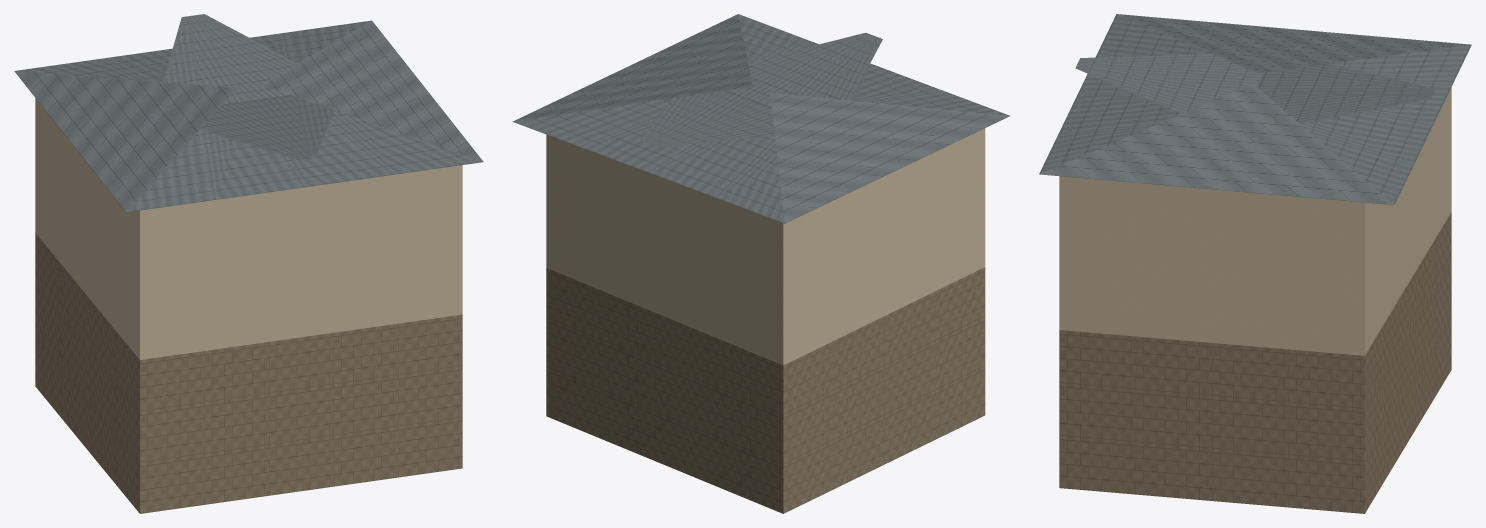
The model's file is bld_c18_18_503.gltf.
3 views of the same model, side by side, from view 1: azimuth 30°, elevation 25°; view 2: azimuth 150°, elevation 25°; view 3: azimuth 270°, elevation 25° (orthographic). The views are drawn at different scales.
Visible parts, largest first — view 1: bld_c18_18_503; view 2: bld_c18_18_503; view 3: bld_c18_18_503.
Boxes of the visible parts, left/top/right/bottom form: bld_c18_18_503: left=14, top=14, right=483, bottom=513; bld_c18_18_503: left=512, top=14, right=1009, bottom=513; bld_c18_18_503: left=1039, top=14, right=1471, bottom=513.
Size of the model in its own units: 13.22 by 11.3 by 12.66.
3 materials, 3 textured.
